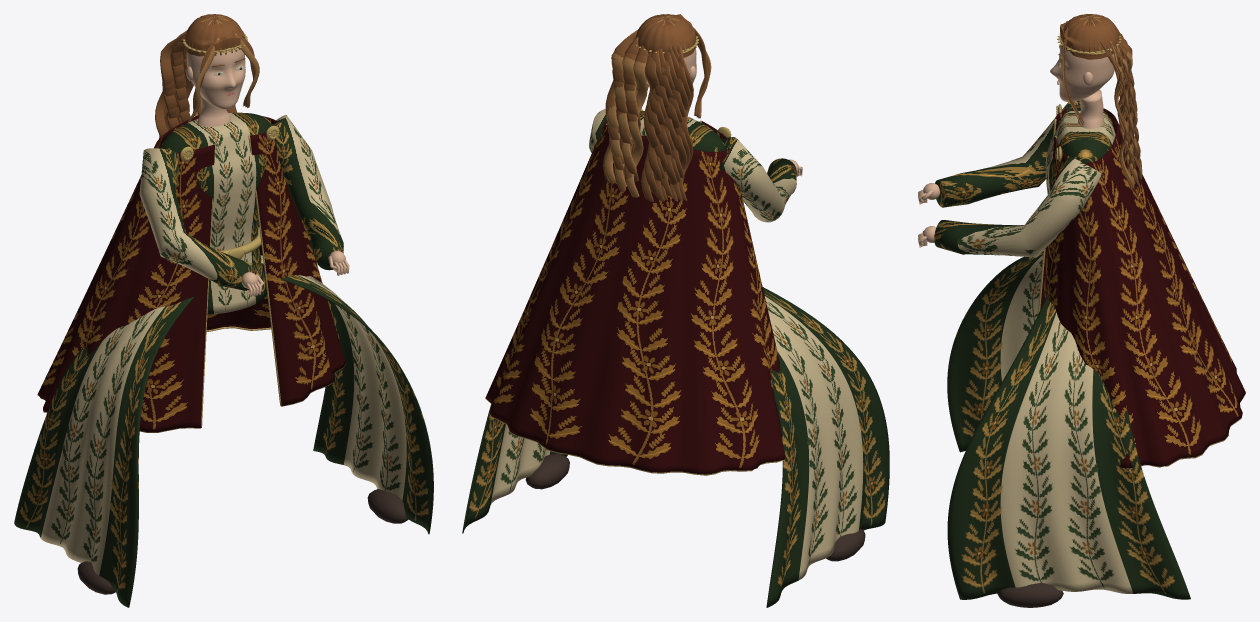
File: princess-v12-mounted.glb
The picture shows the model from 3 angles, left to right: view 1: azimuth 30°, elevation 25°; view 2: azimuth 150°, elevation 25°; view 3: azimuth 270°, elevation 25°; orthographic projection.
Parts seen in each view (by area): view 1: MorrisPrincess_surface, cape_surface, body_surface, head_surface, armL_surface, armR_surface; view 2: cape_surface, MorrisPrincess_surface, head_surface, armL_surface, body_surface; view 3: MorrisPrincess_surface, cape_surface, head_surface, armR_surface, armL_surface, body_surface.
Part boxes in pixels (bbox=[...]): MorrisPrincess_surface: bbox=[14, 255, 433, 607]; cape_surface: bbox=[37, 115, 345, 432]; body_surface: bbox=[160, 94, 279, 314]; head_surface: bbox=[155, 14, 259, 138]; armL_surface: bbox=[139, 148, 263, 296]; armR_surface: bbox=[272, 115, 349, 275]; cape_surface: bbox=[485, 120, 785, 475]; MorrisPrincess_surface: bbox=[462, 287, 889, 607]; head_surface: bbox=[603, 14, 711, 201]; armL_surface: bbox=[718, 137, 802, 222]; body_surface: bbox=[639, 108, 731, 151]; MorrisPrincess_surface: bbox=[947, 251, 1190, 607]; cape_surface: bbox=[1037, 108, 1245, 469]; head_surface: bbox=[1050, 14, 1142, 189]; armR_surface: bbox=[918, 156, 1102, 257]; armL_surface: bbox=[918, 100, 1080, 207]; body_surface: bbox=[1045, 89, 1115, 194].
Bounding box in the file's own units: 0.948 × 1.46 × 0.8373.
Materials: 10 (2 with a texture image).
